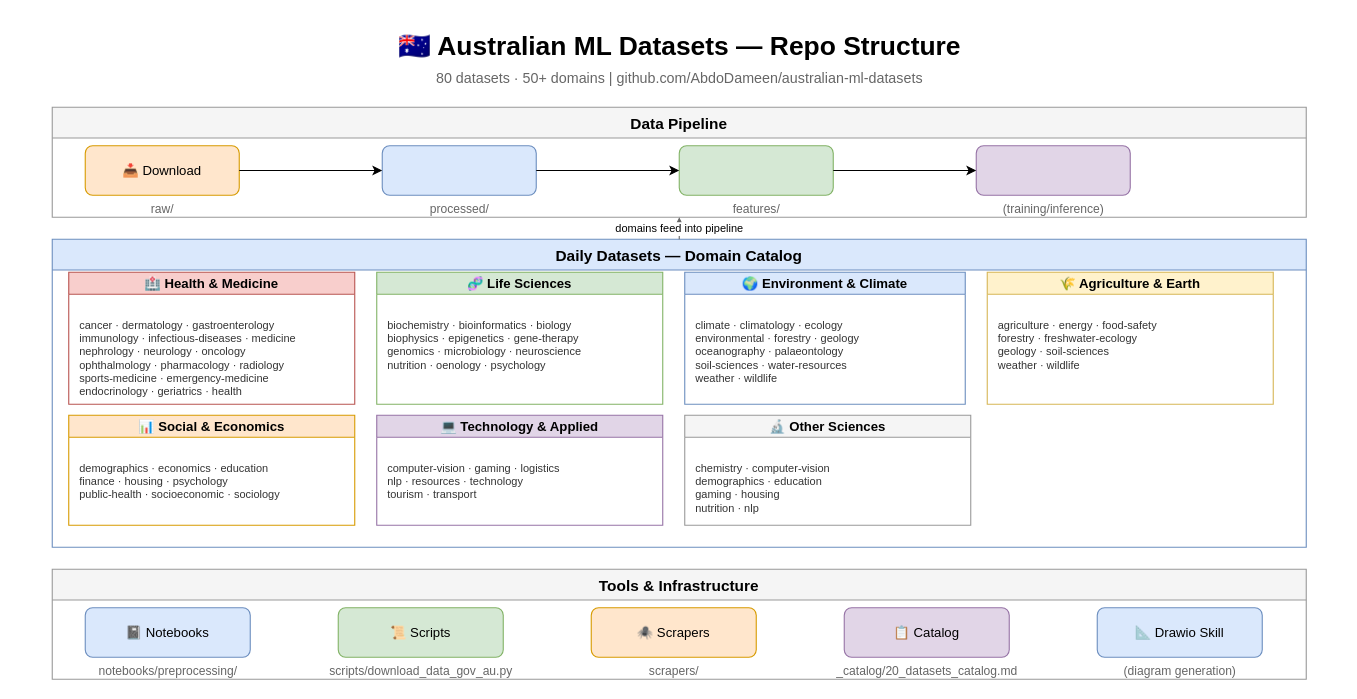
Some shapes in this 1357 by 699 pixel diagram are drawn without their labels. The centre of each missing label's shape, as x and y in pixels:
⚙️ Process: point 458,170
🔧 Features: point 755,170
🤖 ML Ready: point 1052,170
